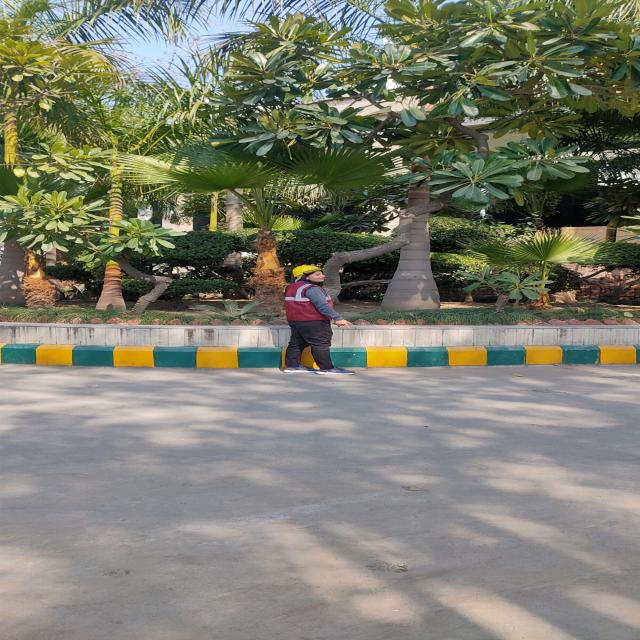safe: (284, 265, 350, 374)
